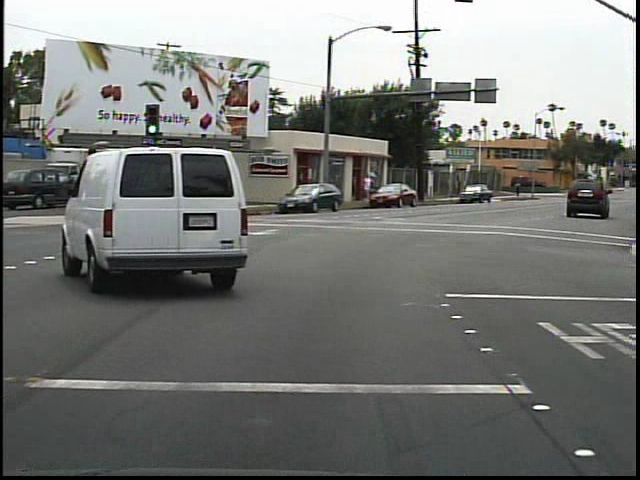person: (358, 171, 373, 205), (511, 176, 524, 201)
